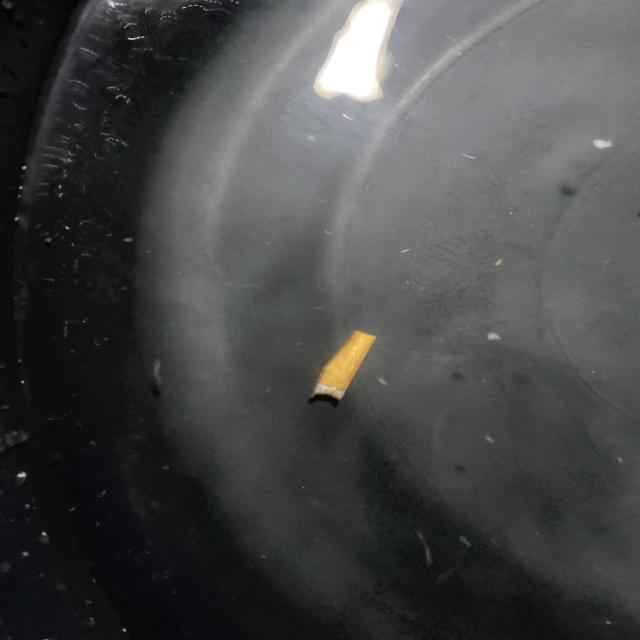Cigarette Filter: (292, 317, 382, 409)
